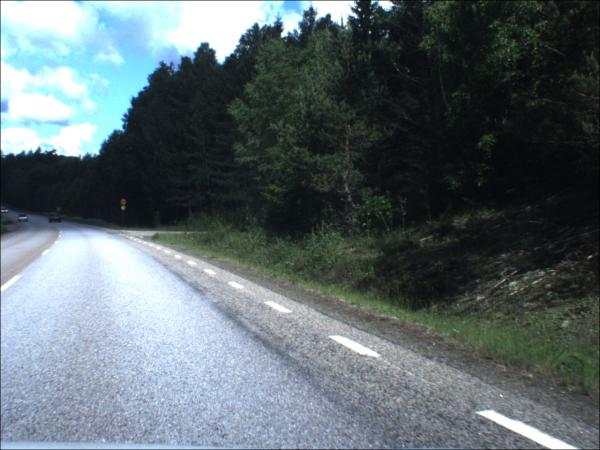80_SIGN: (122, 199, 129, 207)
PRIORITY_ROAD: (122, 207, 128, 213)
